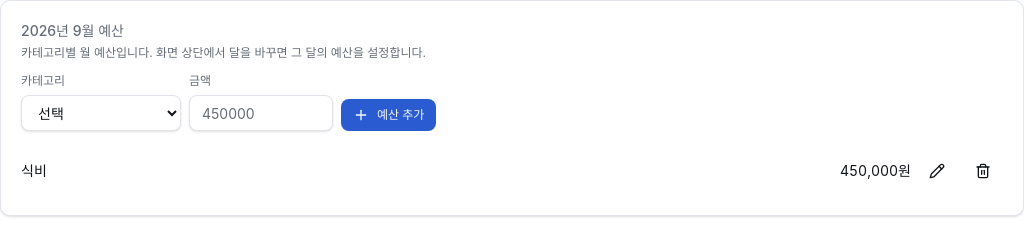
Test: BudgetSection - 예산 관리 › 수정을 취소하면 원래 금액으로 돌아간다
Expected: the text "450,000원" is shown, [840, 161, 911, 181]
Click the button named "식비 예산 수정" at [937, 171], box [917, 155, 957, 187]
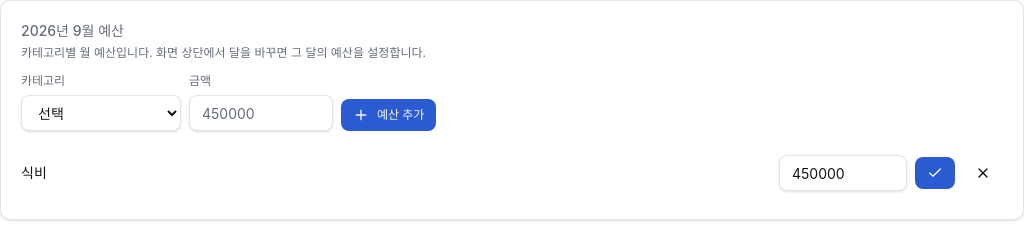
Replace the text in the number field named "식비 예산 금액" with "1" at [843, 173], box [779, 155, 907, 191]
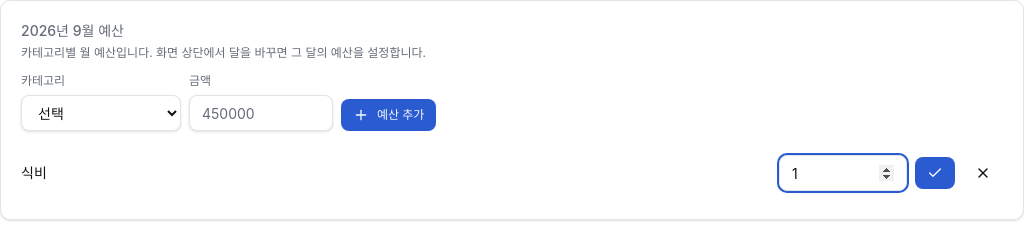
Click the button named "취소" at [983, 173], box [963, 157, 1003, 189]
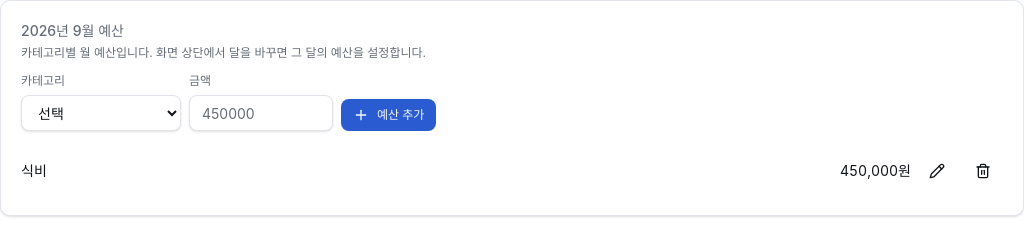
Expected: the text "450,000원" is shown, [840, 161, 911, 181]
